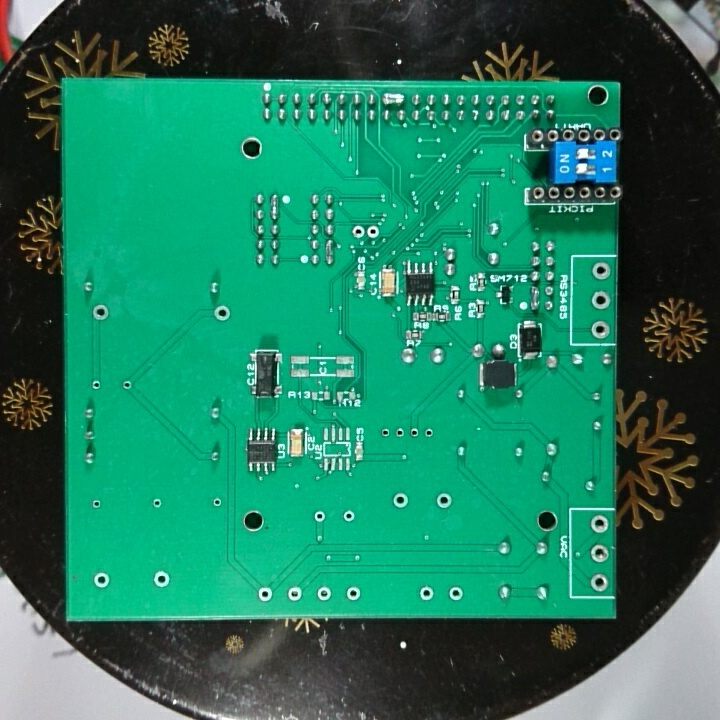F: (589, 317, 613, 343), (588, 541, 612, 566), (589, 288, 612, 312), (588, 512, 611, 536), (590, 259, 611, 283), (588, 571, 611, 592), (150, 569, 173, 590), (91, 302, 112, 323), (389, 490, 411, 510), (211, 303, 233, 323), (417, 583, 437, 604), (435, 490, 455, 511), (284, 584, 304, 605), (91, 571, 112, 591), (314, 583, 334, 603), (344, 583, 365, 602), (446, 584, 467, 602), (256, 583, 274, 603), (349, 223, 366, 241), (365, 222, 379, 243), (340, 507, 357, 524), (421, 423, 434, 444), (408, 424, 421, 444), (150, 494, 164, 512), (379, 425, 393, 443), (120, 378, 134, 395), (89, 378, 103, 395), (393, 425, 406, 443), (311, 508, 325, 524), (91, 496, 103, 513), (211, 494, 224, 509)
P: (268, 191, 283, 222), (380, 90, 407, 107), (528, 283, 542, 315), (323, 236, 336, 269)
